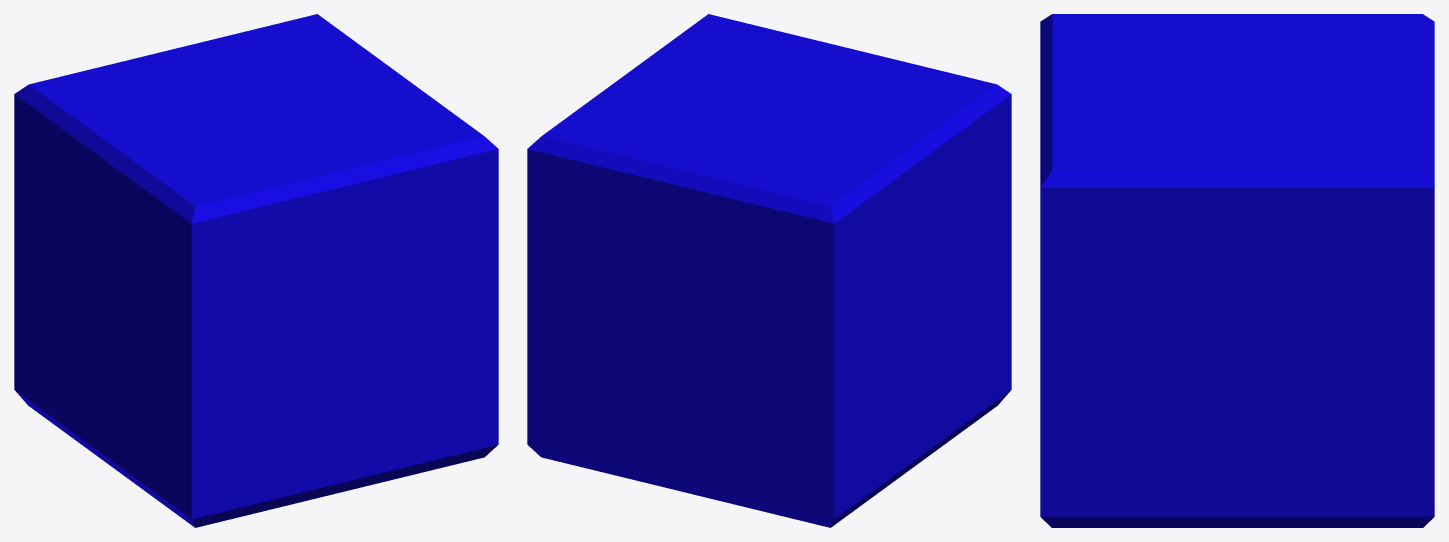
The picture shows the model from 3 angles, left to right: view 1: azimuth 30°, elevation 25°; view 2: azimuth 150°, elevation 25°; view 3: azimuth 270°, elevation 25°; orthographic projection. The views are drawn at different scales.
Parts seen in each view (by area): view 1: Cube; view 2: Cube; view 3: Cube.
Boxes of the visible parts, bbox=[...] form: Cube: bbox=[14, 14, 498, 527]; Cube: bbox=[527, 14, 1011, 527]; Cube: bbox=[1040, 14, 1434, 527].
Bounding box in the file's own units: 2 × 2 × 2.
